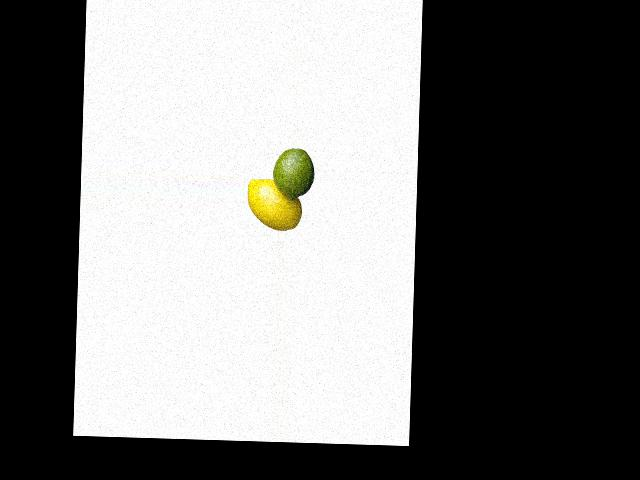lemon: (264, 146, 317, 207)
